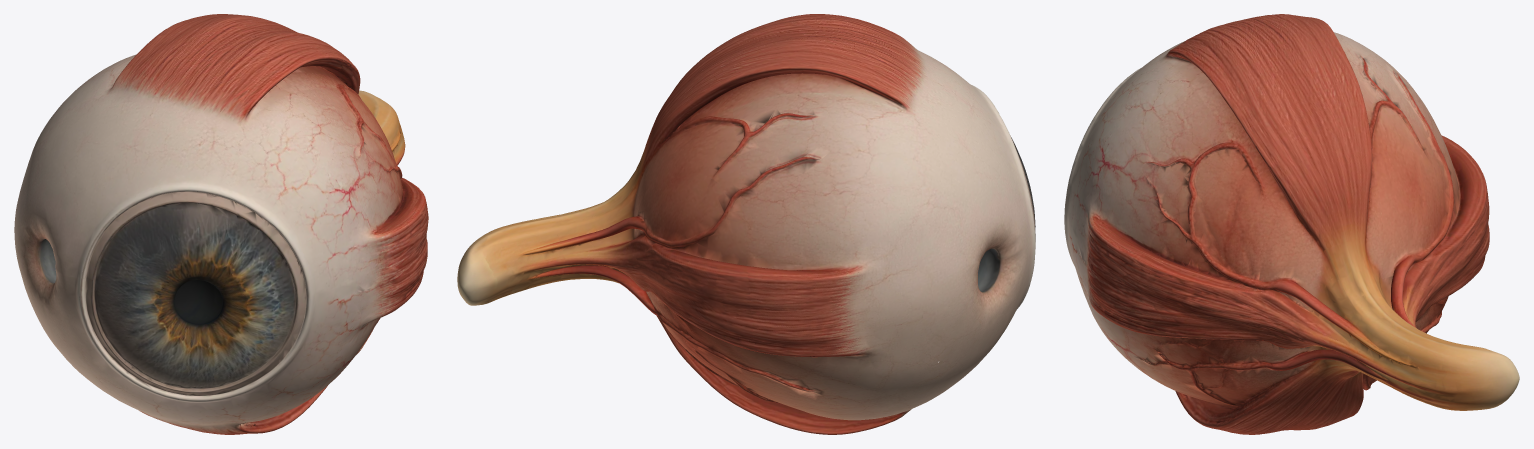
Rendered from eyeball.glb.
The picture shows the model from 3 angles, left to right: view 1: azimuth 30°, elevation 25°; view 2: azimuth 150°, elevation 25°; view 3: azimuth 270°, elevation 25°; orthographic projection.
Parts seen in each view (by area): view 1: tripo_node_ebf243bf-d3b6-4331-9960-3b03130a2b84; view 2: tripo_node_ebf243bf-d3b6-4331-9960-3b03130a2b84; view 3: tripo_node_ebf243bf-d3b6-4331-9960-3b03130a2b84.
Boxes of the visible parts, left/top/right/bottom form: tripo_node_ebf243bf-d3b6-4331-9960-3b03130a2b84: left=14, top=14, right=428, bottom=434; tripo_node_ebf243bf-d3b6-4331-9960-3b03130a2b84: left=457, top=14, right=1035, bottom=434; tripo_node_ebf243bf-d3b6-4331-9960-3b03130a2b84: left=1064, top=14, right=1519, bottom=434.
Size of the model in its own units: 0.9793 by 0.8045 by 0.8529.
Materials: 1 (1 with a texture image).
